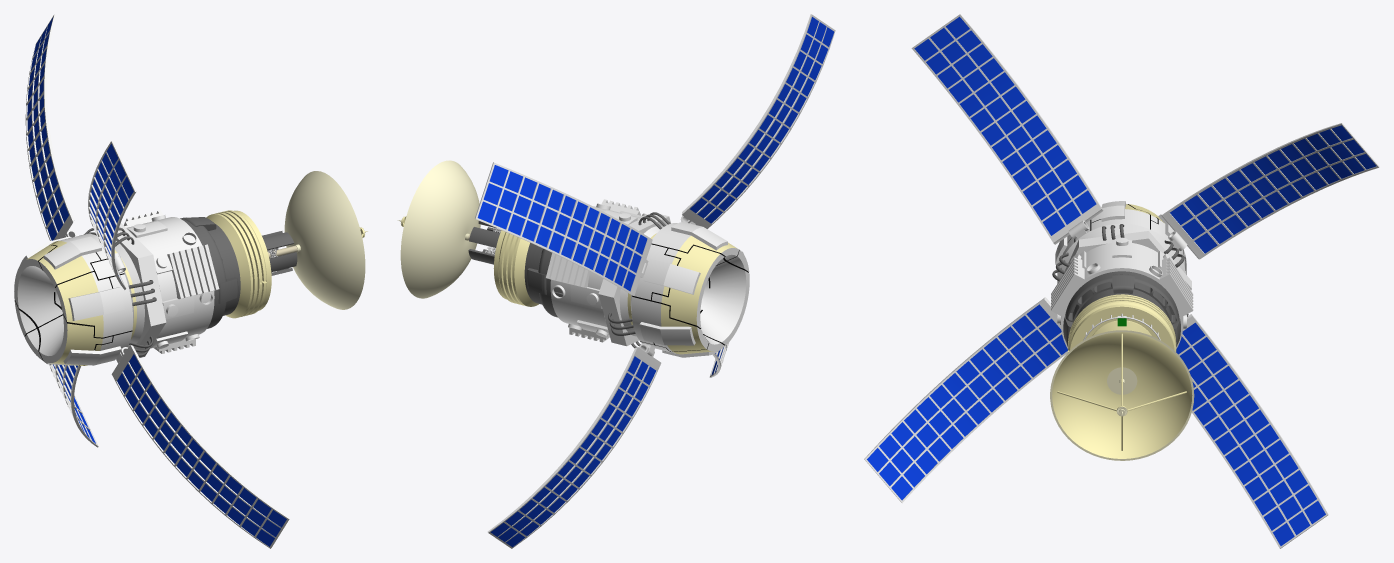
The model's file is SATELLITE.glb.
3 renders of one model, left to right at view 1: azimuth 30°, elevation 25°; view 2: azimuth 150°, elevation 25°; view 3: azimuth 270°, elevation 25°, orthographic.
Visible parts, largest first — view 1: Solid1 (×9), Solid2; view 2: Solid1 (×8), Solid2; view 3: Solid1 (×8), Solid2.
Part boxes in pixels (left/top/right/bottom): Solid1 (×9): left=14, top=14, right=297, bottom=548; Solid2: left=284, top=171, right=367, bottom=309; Solid1 (×8): left=468, top=14, right=835, bottom=548; Solid2: left=397, top=160, right=480, bottom=298; Solid1 (×8): left=864, top=14, right=1379, bottom=548; Solid2: left=1050, top=330, right=1194, bottom=460.
Bounding box in the file's own units: 1.1 × 1.42 × 1.43.
